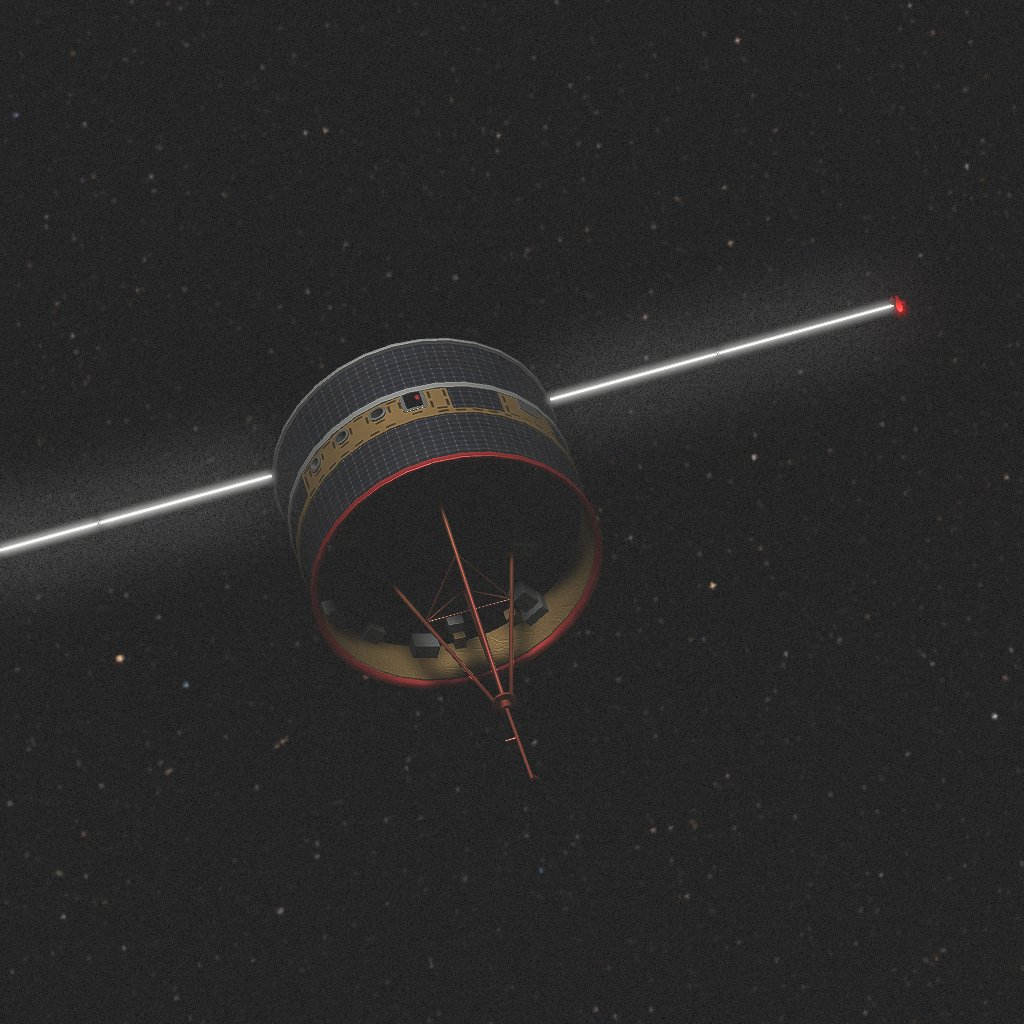double_star: (0, 296, 906, 781)
